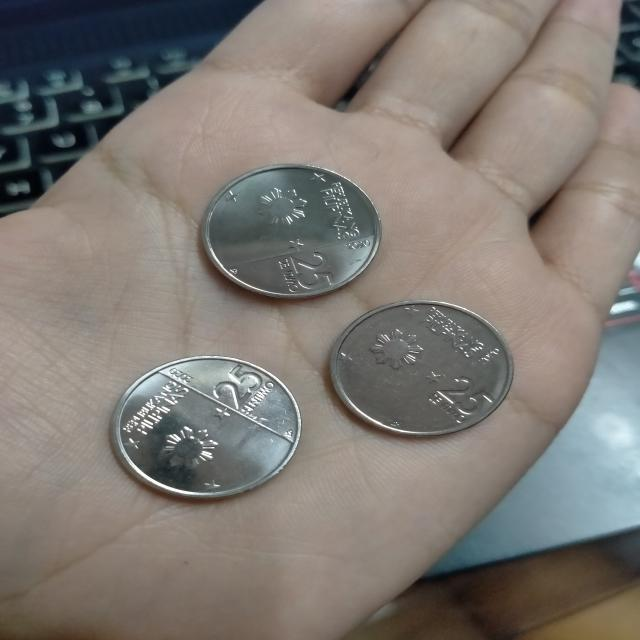25Cent_New_Front: (108, 359, 269, 474), (242, 164, 378, 297), (358, 305, 494, 423)
